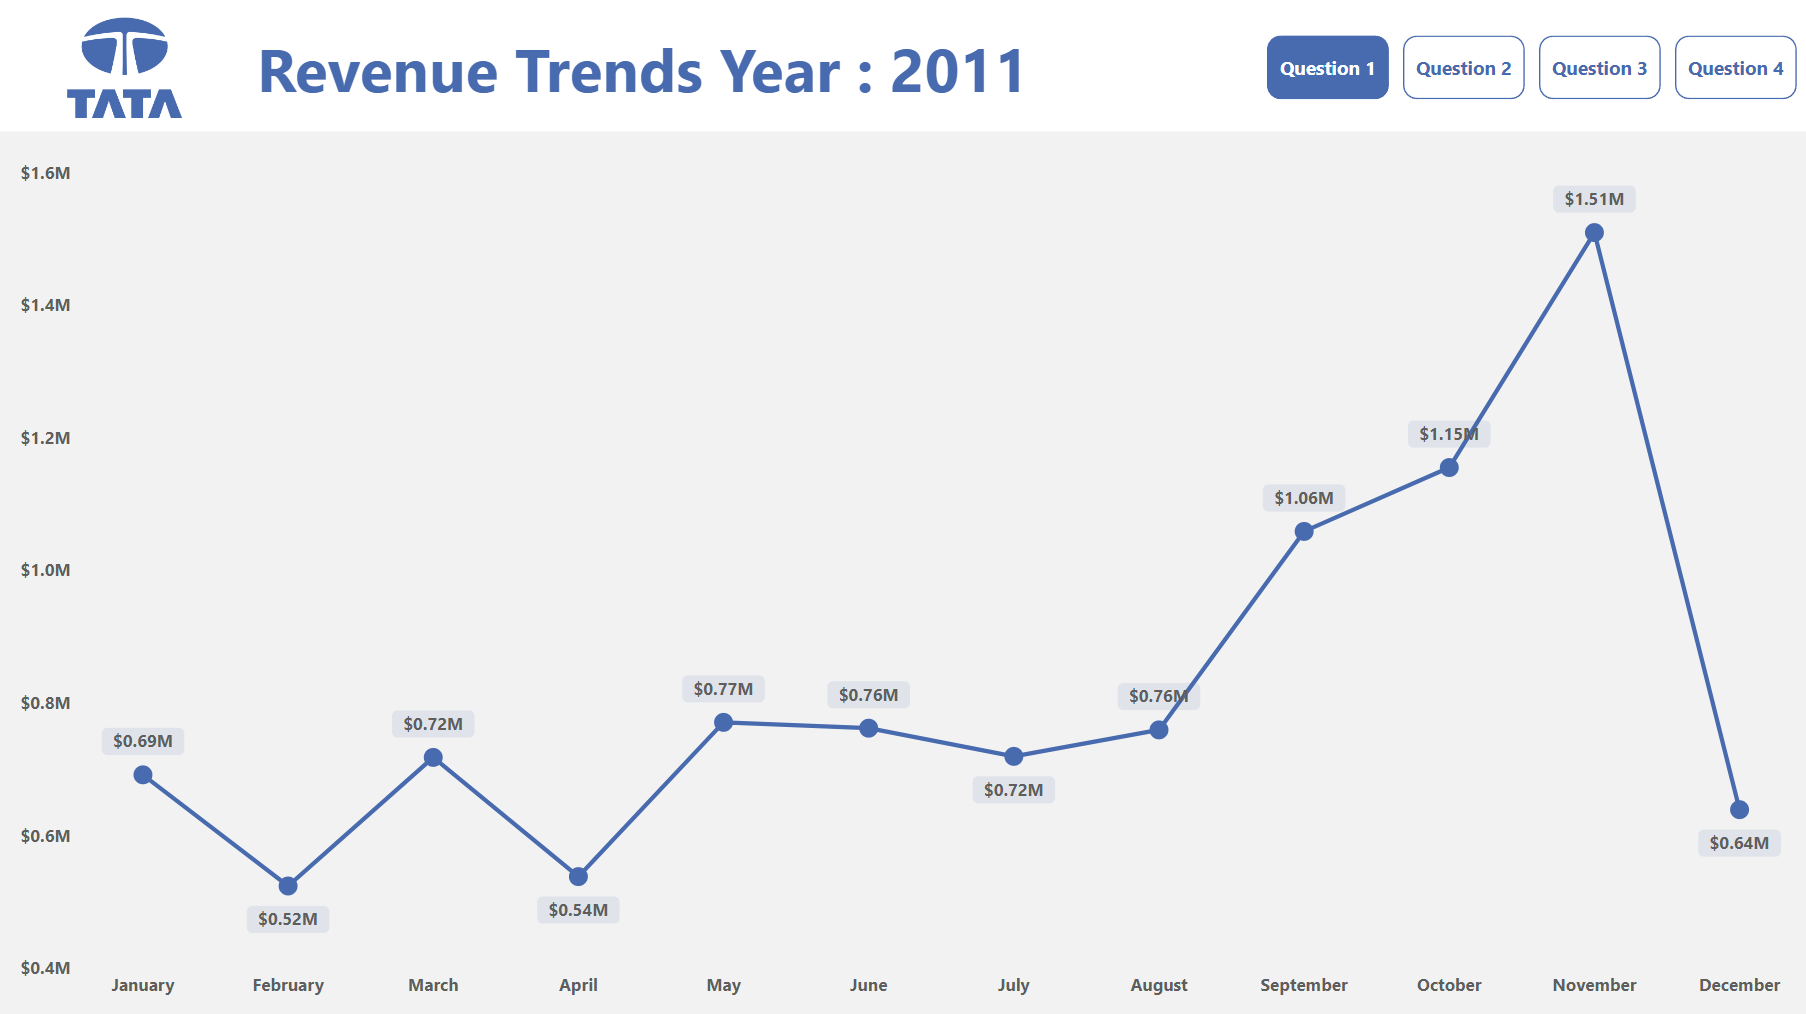

What the dashboard file says about the page in this screenshot:
{"tool":"powerbi","page":{"name":"Question 1","canvas":[1280,720],"ordinal":0},"visuals":[{"type":"lineChart","fields":{"Y":["Sum(Online Retail.Revenue)"],"Category":["Online Retail.InvoiceDate.Variation.Date Hierarchy.Month"]},"box":[0,89.7,1280,630.4],"z":0},{"type":"shape","box":[0,0,1280,90],"z":1000},{"type":"textbox","box":[178.2,10.8,655.6,70.6],"z":2000},{"type":"pageNavigator","box":[896,22.7,384,45.5],"z":3000},{"type":"image","box":[0,0,178.2,89.7],"z":4000}]}

Visuals, with their boxes in screenshot pixels (x1, y1, x2, y2), scaled from the page's 1280x720 canvas onto the 1806x1014 screenshot:
lineChart - Sum(Online Retail.Revenue) x Online Retail.InvoiceDate.Variation.Date Hierarchy.Month: (left=0, top=126, right=1805, bottom=1013)
shape: (left=0, top=0, right=1805, bottom=127)
textbox: (left=251, top=15, right=1176, bottom=115)
pageNavigator: (left=1264, top=32, right=1805, bottom=96)
image: (left=0, top=0, right=251, bottom=126)
